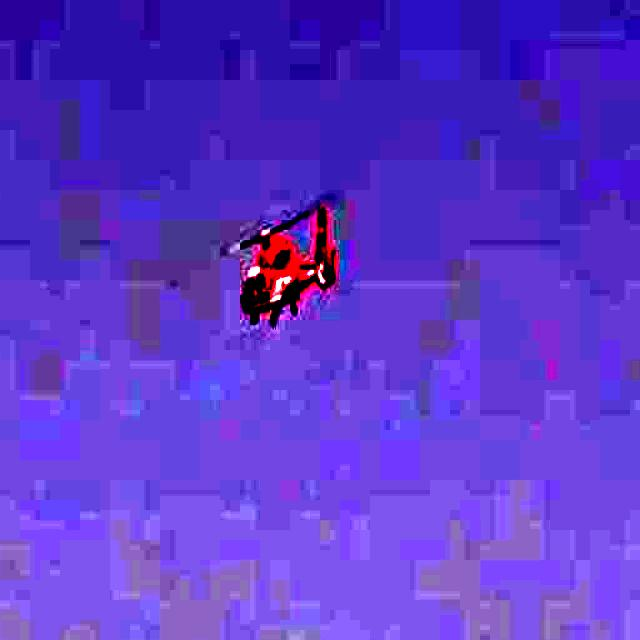drone: (178, 160, 405, 356)
